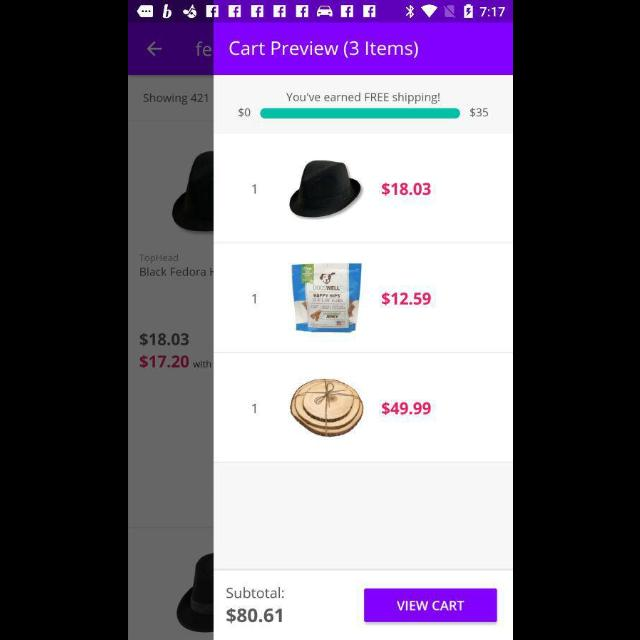image: (290, 264, 362, 332), (289, 378, 363, 438), (288, 160, 360, 218)
panel: (214, 24, 512, 640)
text: (228, 41, 418, 59), (285, 92, 439, 106), (225, 608, 282, 624), (381, 182, 431, 196), (381, 292, 431, 306), (380, 402, 430, 416), (226, 587, 284, 599), (468, 108, 488, 118), (236, 108, 250, 119), (252, 183, 256, 194), (252, 294, 256, 304), (252, 404, 256, 414)
textbutton: (364, 588, 496, 622)
uppertaskbar: (128, 1, 512, 23)
